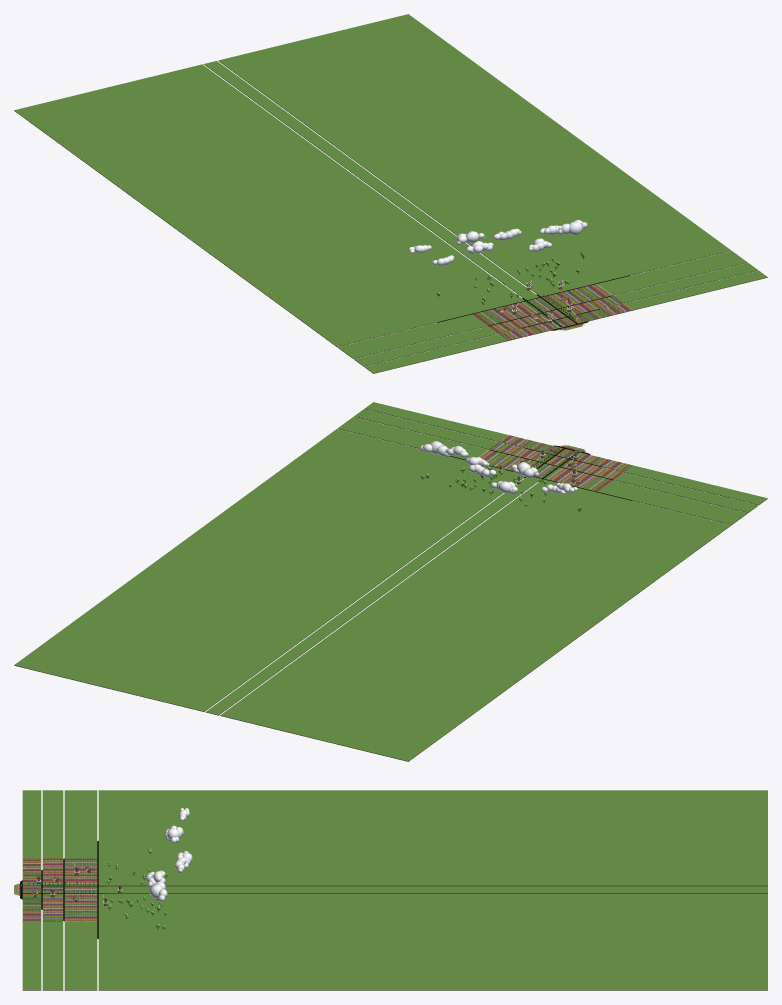
Rendered from backdrop_1.glb.
3 views of the same model, one above another, from view 1: azimuth 30°, elevation 25°; view 2: azimuth 150°, elevation 25°; view 3: azimuth 270°, elevation 25° (orthographic). The views are drawn at different scales.
Visible parts, largest first — view 1: mid_fields, mid_trees, mid_canals; view 2: mid_fields, mid_trees; view 3: mid_fields, mid_trees, mid_canals.
Boxes of the visible parts, x1,y1,x2,y2 form: mid_fields: [14, 14, 767, 373]; mid_trees: [437, 250, 584, 324]; mid_canals: [437, 275, 629, 330]; mid_fields: [14, 402, 767, 761]; mid_trees: [420, 447, 581, 512]; mid_fields: [22, 790, 767, 990]; mid_trees: [28, 848, 168, 930]; mid_canals: [20, 841, 105, 938].
Bounding box in the file's own units: 820 × 93.47 × 1310.
